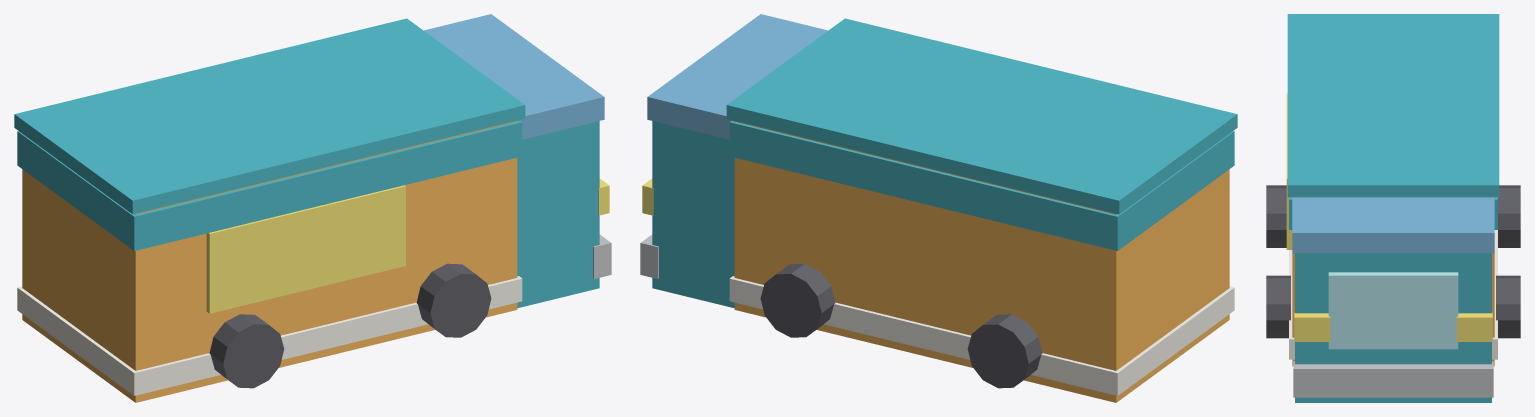
The model's file is truck.fbx.
The picture shows the model from 3 angles, left to right: view 1: azimuth 30°, elevation 25°; view 2: azimuth 150°, elevation 25°; view 3: azimuth 270°, elevation 25°; orthographic projection. The views are drawn at different scales.
Parts seen in each view (by area): view 1: CargoRoof, Cargo, CargoBand, Logo, Cab, CabRoof, CargoStripe, Wheel_-0.8_-1.02, Wheel_1.1_-1.02, CabBumper; view 2: Cargo, CargoRoof, CargoBand, Cab, CabRoof, CargoStripe, Wheel_-0.8_1.02, Wheel_1.1_1.02, CabBumper; view 3: CargoRoof, CabRoof, Cab, Window, CabBumper, Wheel_1.1_-1.02, Wheel_1.1_1.02, Wheel_-0.8_1.02, Wheel_-0.8_-1.02, Headlight_-0.72, Headlight_0.72, CargoStripe (+3 smaller).
Boxes of the visible parts, x1,y1,x2,y2 form: CargoRoof: (14, 18, 525, 214); Cargo: (22, 121, 517, 402); CargoBand: (17, 121, 522, 250); Logo: (206, 185, 405, 313); Cab: (517, 121, 599, 308); CabRoof: (424, 14, 604, 139); CargoStripe: (17, 276, 522, 395); Wheel_-0.8_-1.02: (209, 314, 284, 388); Wheel_1.1_-1.02: (416, 263, 491, 337); CabBumper: (593, 234, 611, 278); Cargo: (734, 121, 1229, 402); CargoRoof: (726, 18, 1237, 214); CargoBand: (729, 121, 1234, 250); Cab: (652, 121, 734, 308); CabRoof: (647, 14, 827, 139); CargoStripe: (729, 276, 1234, 395); Wheel_-0.8_1.02: (967, 314, 1042, 388); Wheel_1.1_1.02: (760, 263, 835, 337); CabBumper: (640, 234, 658, 278); CargoRoof: (1287, 14, 1499, 197); CabRoof: (1292, 197, 1494, 253); Cab: (1295, 253, 1491, 402); Window: (1328, 272, 1458, 349); CabBumper: (1293, 361, 1493, 397); Wheel_1.1_-1.02: (1266, 275, 1290, 338); Wheel_1.1_1.02: (1496, 275, 1520, 338); Wheel_-0.8_1.02: (1498, 185, 1520, 247); Wheel_-0.8_-1.02: (1266, 185, 1286, 247); Headlight_-0.72: (1294, 312, 1330, 341); Headlight_0.72: (1456, 312, 1492, 341); CargoStripe: (1289, 230, 1497, 359).
Size of the model in its own units: 442 by 180 by 226.
